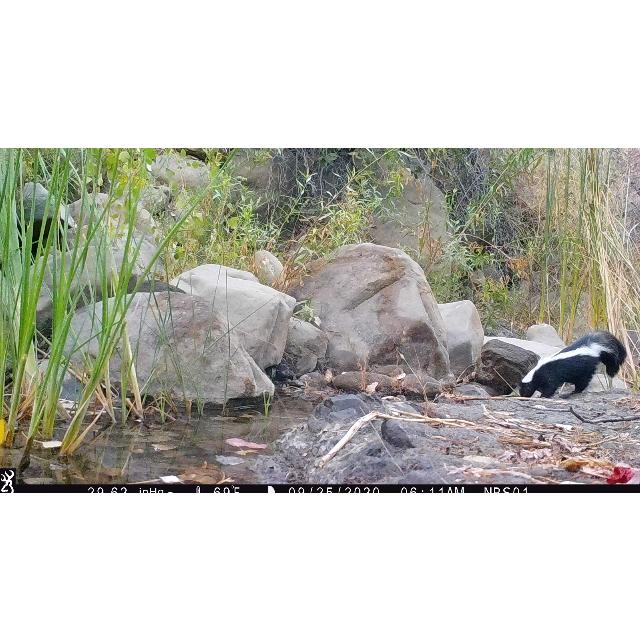animals: (518, 330, 628, 400)
